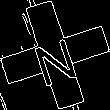N_N: (28, 25, 82, 85)
